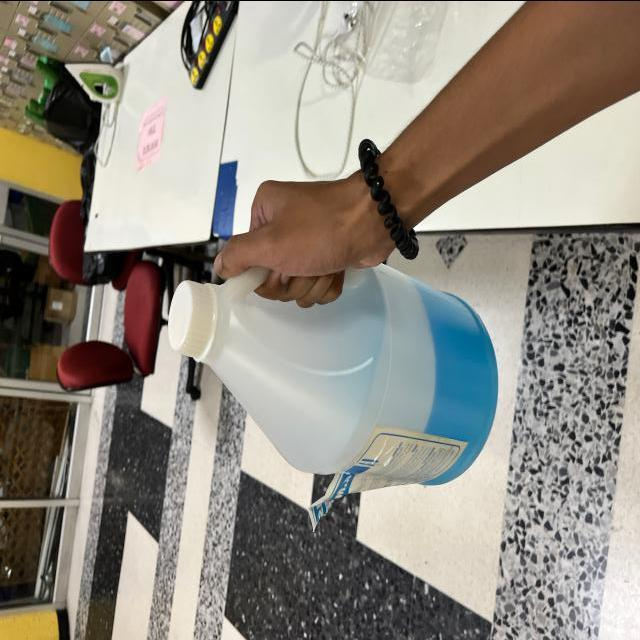HDPE Plastic: (168, 249, 500, 488)
